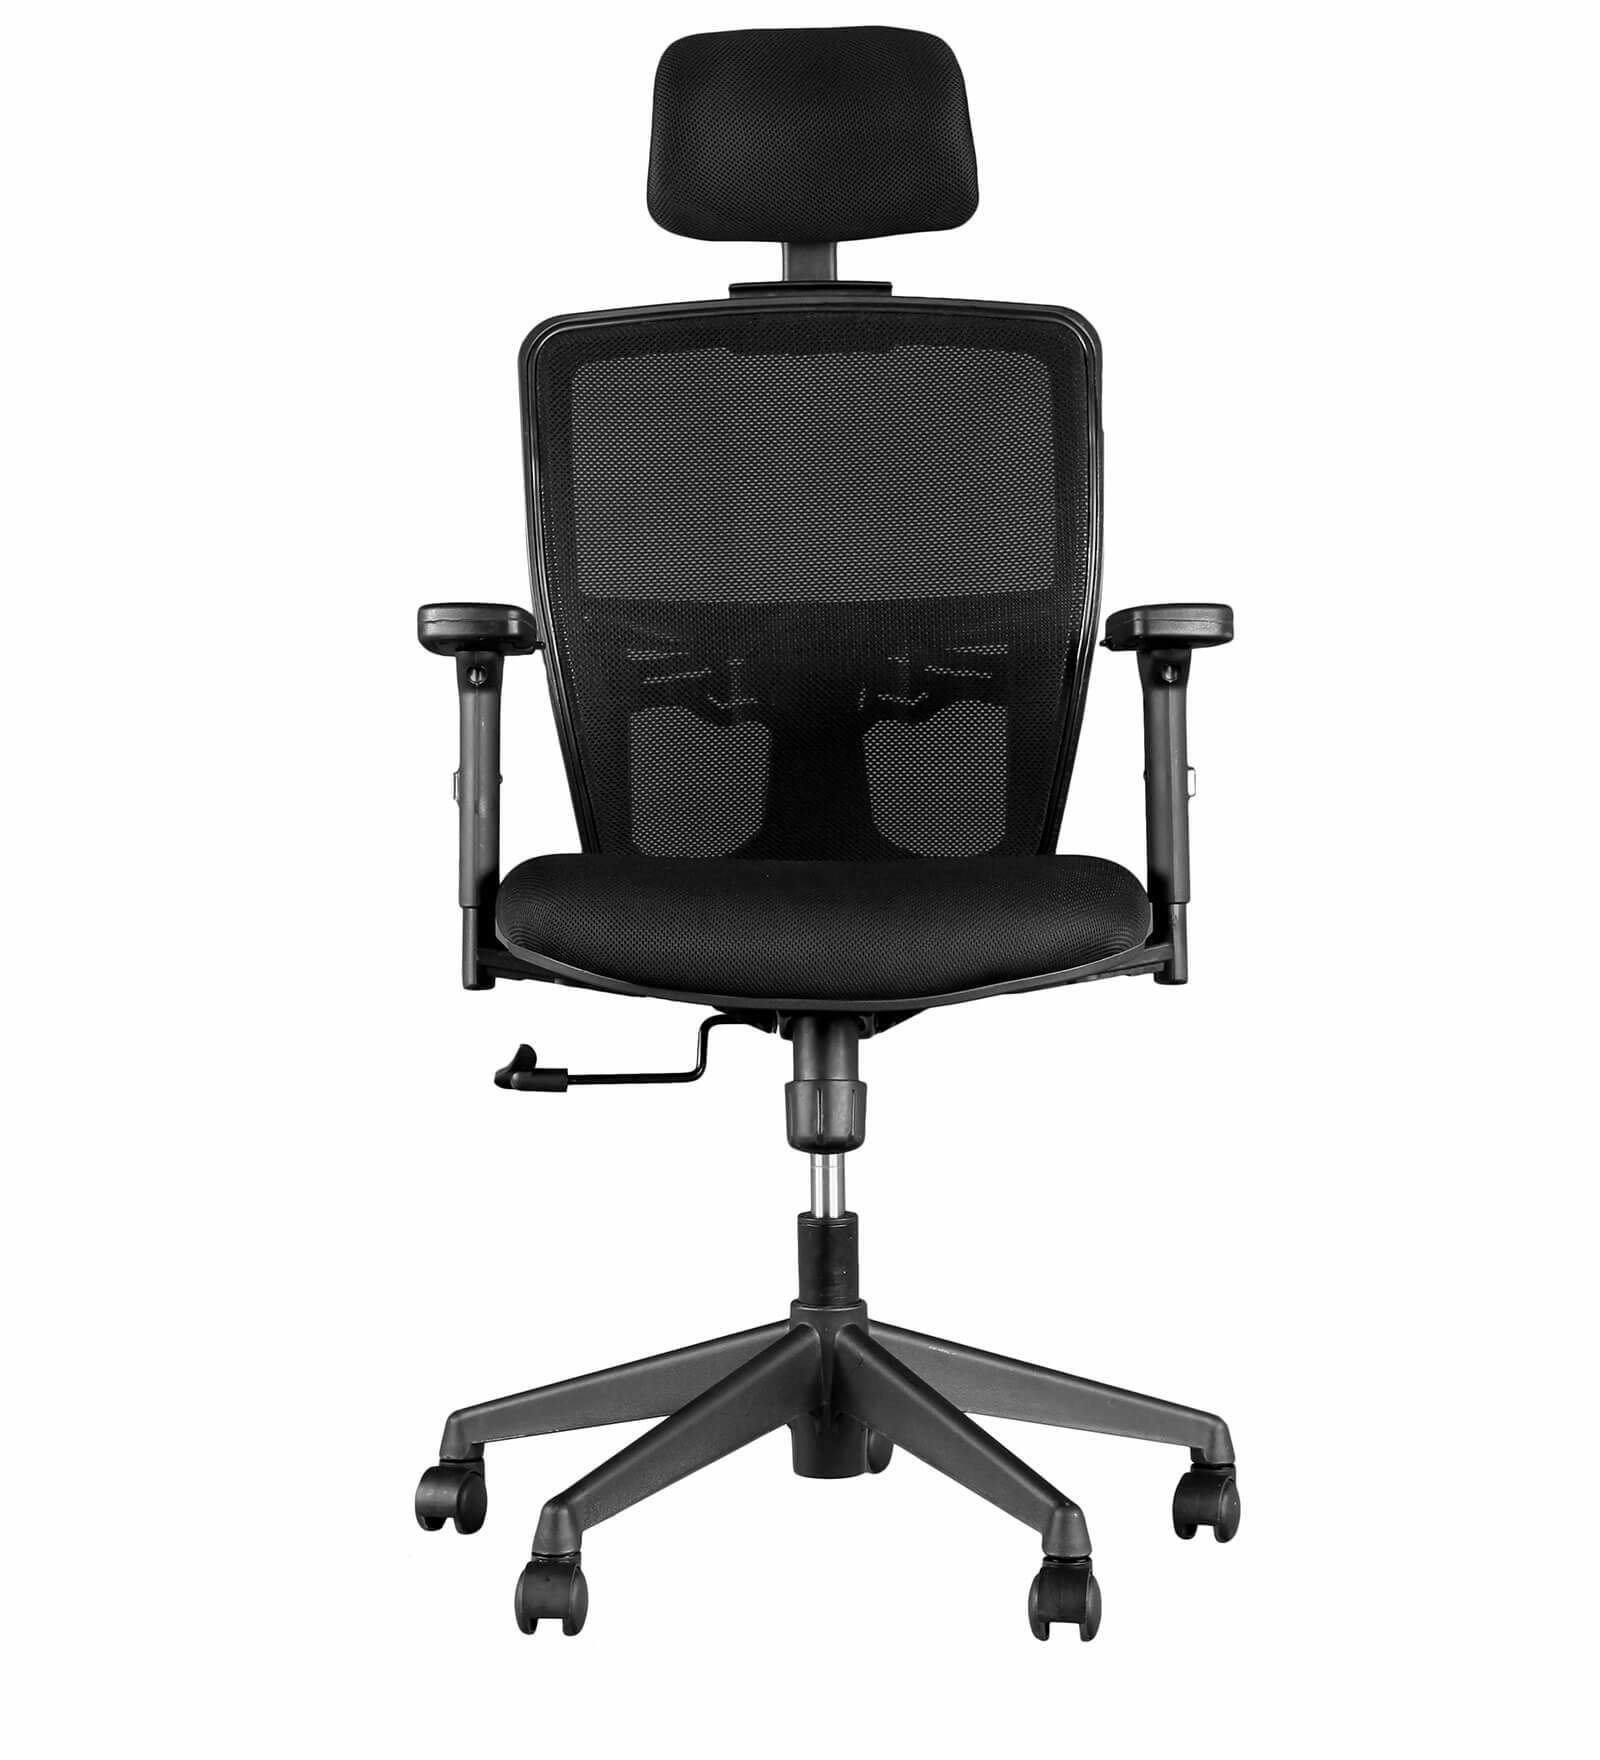Aspire High Back Ergonomic Chair in Black Colour by HomeTown: (406, 28, 1292, 1688)
